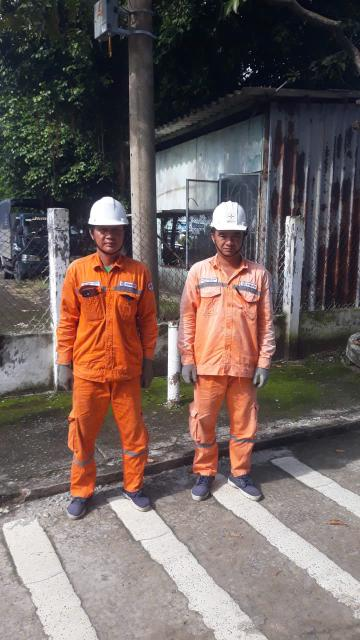gloves: (129, 356, 167, 403), (43, 360, 92, 392), (175, 354, 204, 389), (250, 361, 278, 397)
helmet: (75, 188, 138, 244), (205, 195, 252, 238)
shoes: (228, 464, 273, 508), (61, 493, 104, 534), (182, 468, 222, 508), (115, 487, 164, 518)
